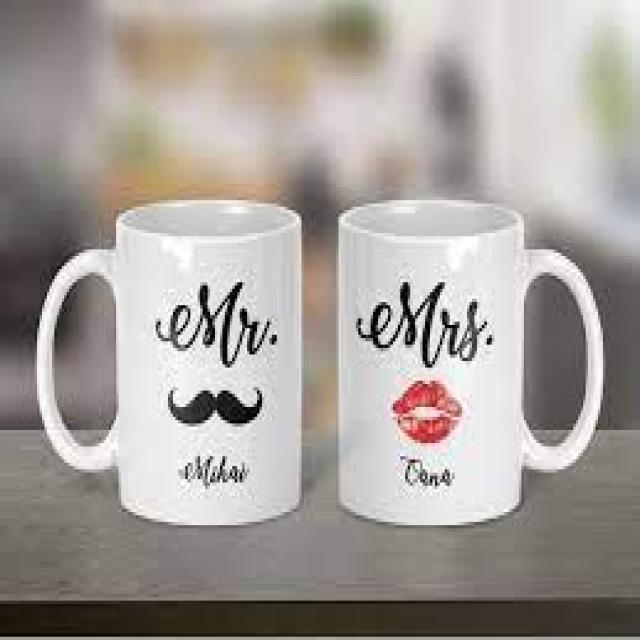taza: (333, 165, 612, 540), (30, 168, 318, 528)
